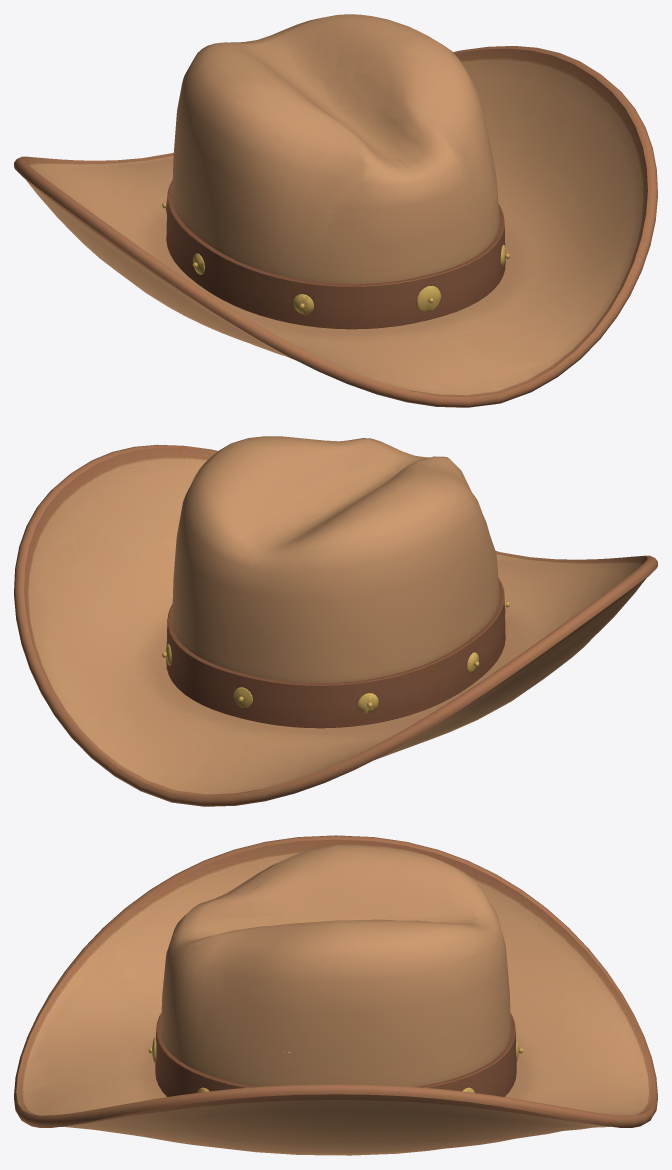
Rendered from woody.glb.
3 views of the same model, one above another, from view 1: azimuth 30°, elevation 25°; view 2: azimuth 150°, elevation 25°; view 3: azimuth 270°, elevation 25° (orthographic). The views are drawn at different scales.
Parts seen in each view (by area): view 1: cowboy-hat_body; view 2: cowboy-hat_body; view 3: cowboy-hat_body.
Boxes of the visible parts, x1,y1,x2,y2 form: cowboy-hat_body: (14,14,657,407); cowboy-hat_body: (14,436,657,806); cowboy-hat_body: (14,835,657,1155).
Bounding box in the file's own units: 0.3794 × 0.1491 × 0.4061.
1 material, 1 textured.
